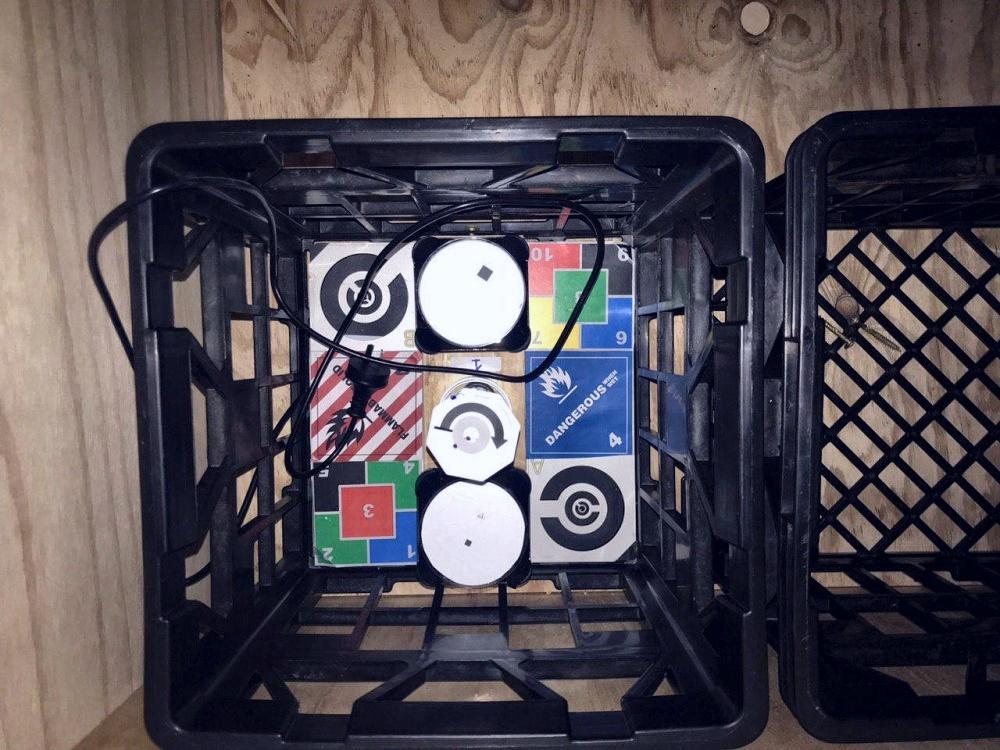dangerous-when-wet: (524, 354, 628, 456)
flammable-solid: (308, 353, 422, 462)
